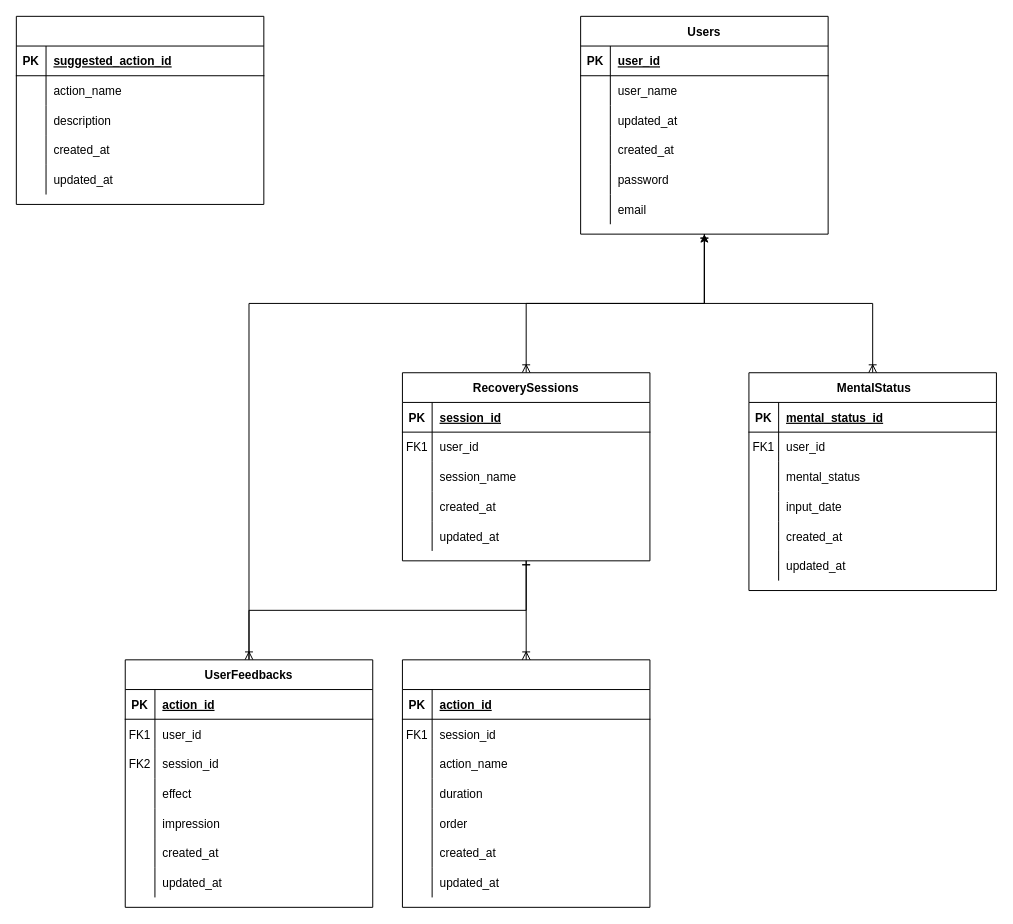
The diagram is 1013 pixels wide and 924 high, and some of its shapes have lost their labels. Each missing label, with the box of its shape:
RecoveryActions: (401, 659, 650, 907)
SuggestedRecoveryActions: (15, 15, 264, 204)
